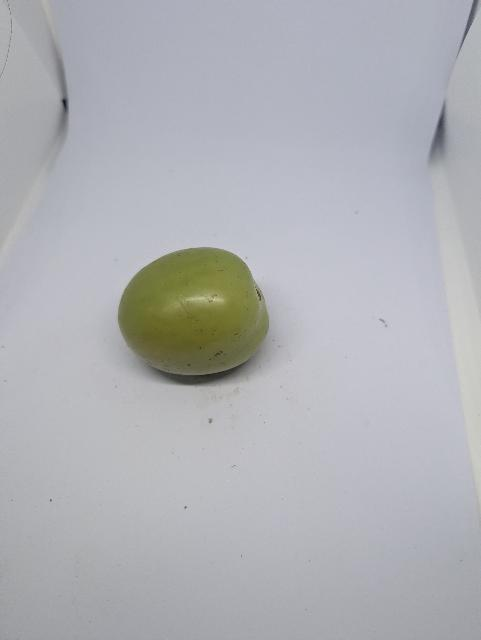green: (116, 247, 271, 380)
